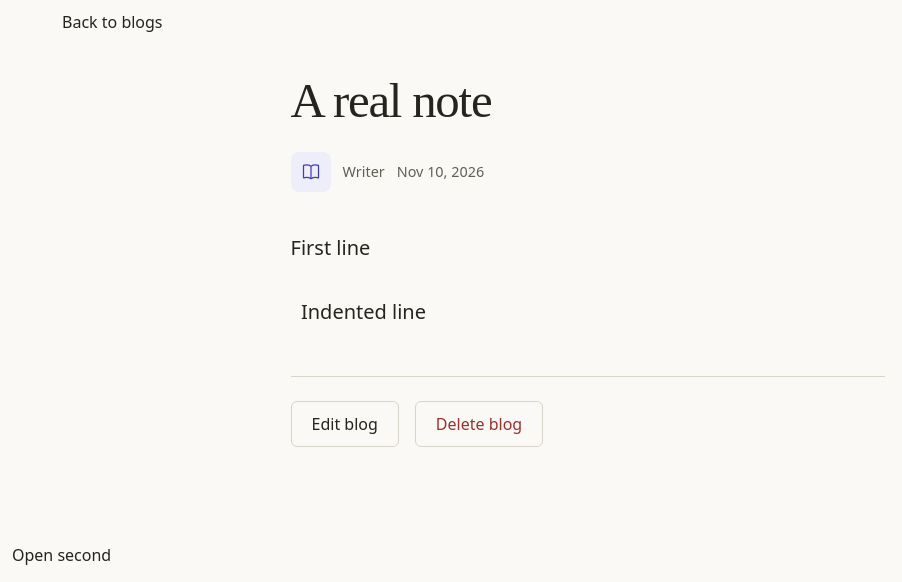
Test: ReadBlog › re-reads when the route ID changes and shows invalid-date fallback
This screenshot has width=902, height=582.
Click the link "Open second": click(62, 555) [12,544,111,566]
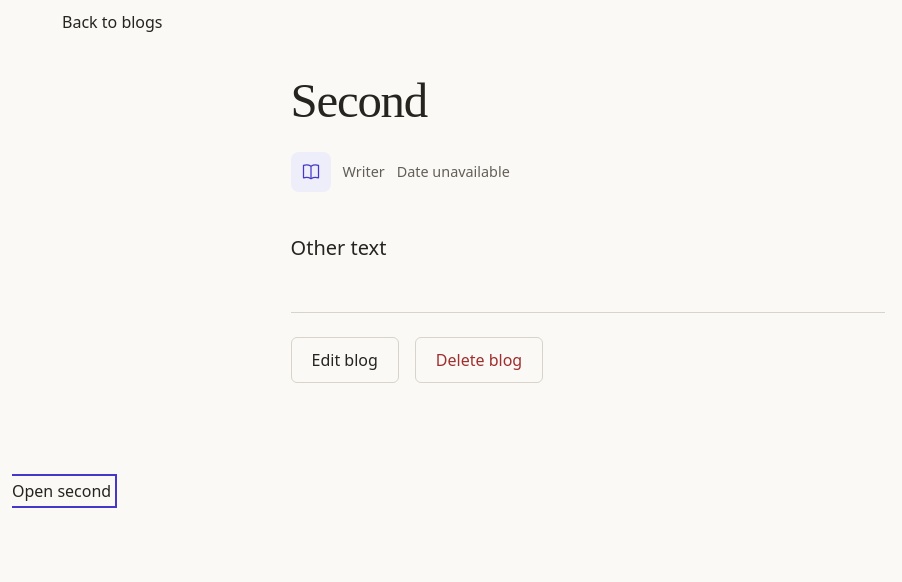
expect the heading reads "Second": met, box [291,73,427,128]
expect the text "Other text" is shown: met, box [291,234,386,261]
expect the text "Date unavailable" is shown: met, box [397,161,510,182]
